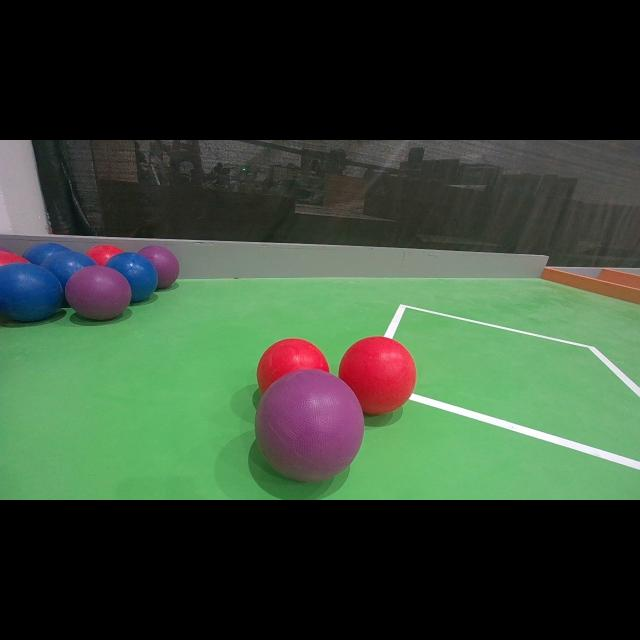B: (1, 264, 62, 324), (104, 252, 158, 302), (19, 244, 70, 278)
P: (254, 369, 364, 481), (65, 266, 132, 320), (136, 244, 180, 288)
R: (339, 337, 417, 415), (256, 338, 330, 394), (87, 244, 123, 274)
